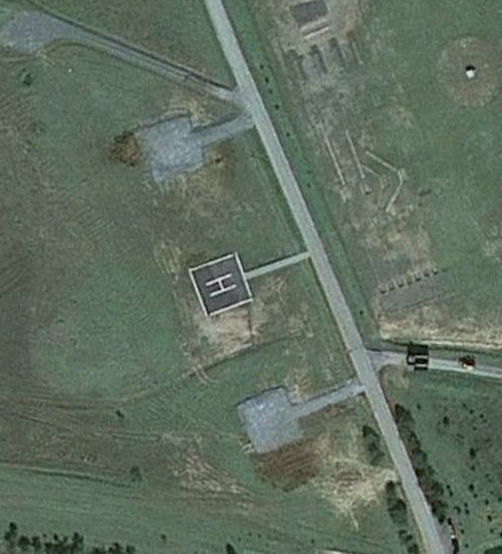heliport: (199, 269, 241, 299)
